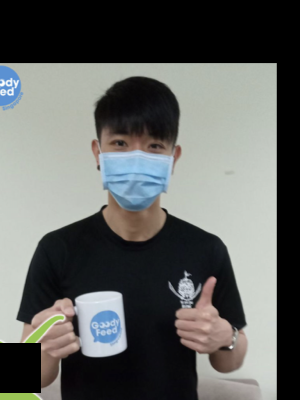with_mask: (98, 131, 171, 215)
